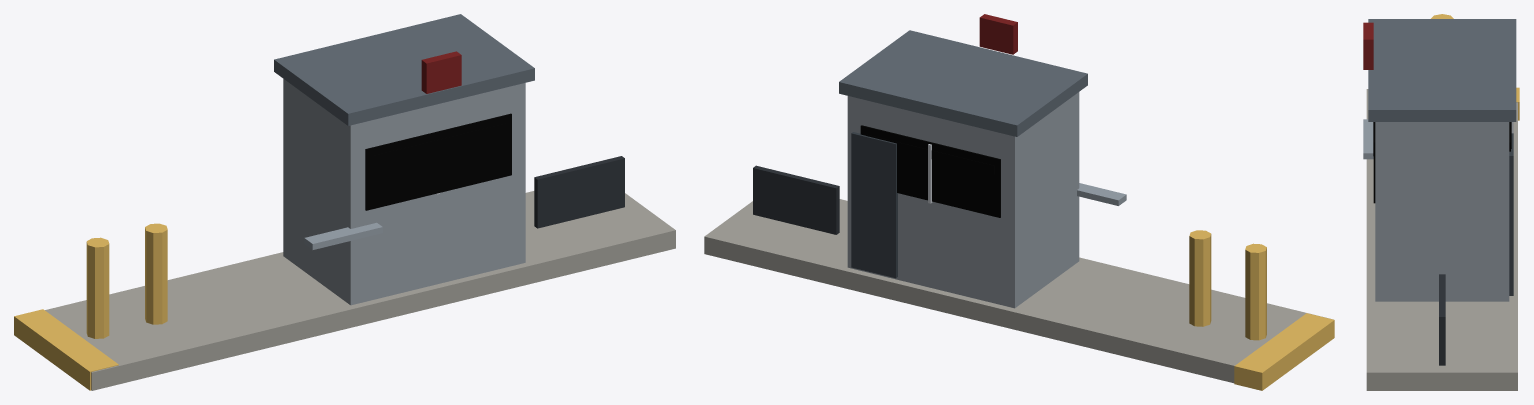
Rendered from env_toll_booth.fbx.
3 views of the same model, side by side, from view 1: azimuth 30°, elevation 25°; view 2: azimuth 150°, elevation 25°; view 3: azimuth 270°, elevation 25° (orthographic). The views are drawn at different scales.
Visible parts, largest first — view 1: env_toll_booth; view 2: env_toll_booth; view 3: env_toll_booth.
Part boxes in pixels (x1=…): env_toll_booth: x1=14, y1=14, x2=675, y2=390; env_toll_booth: x1=704, y1=14, x2=1334, y2=390; env_toll_booth: x1=1363, y1=14, x2=1519, y2=390.
Size of the model in its own units: 2005 by 810 by 465.
